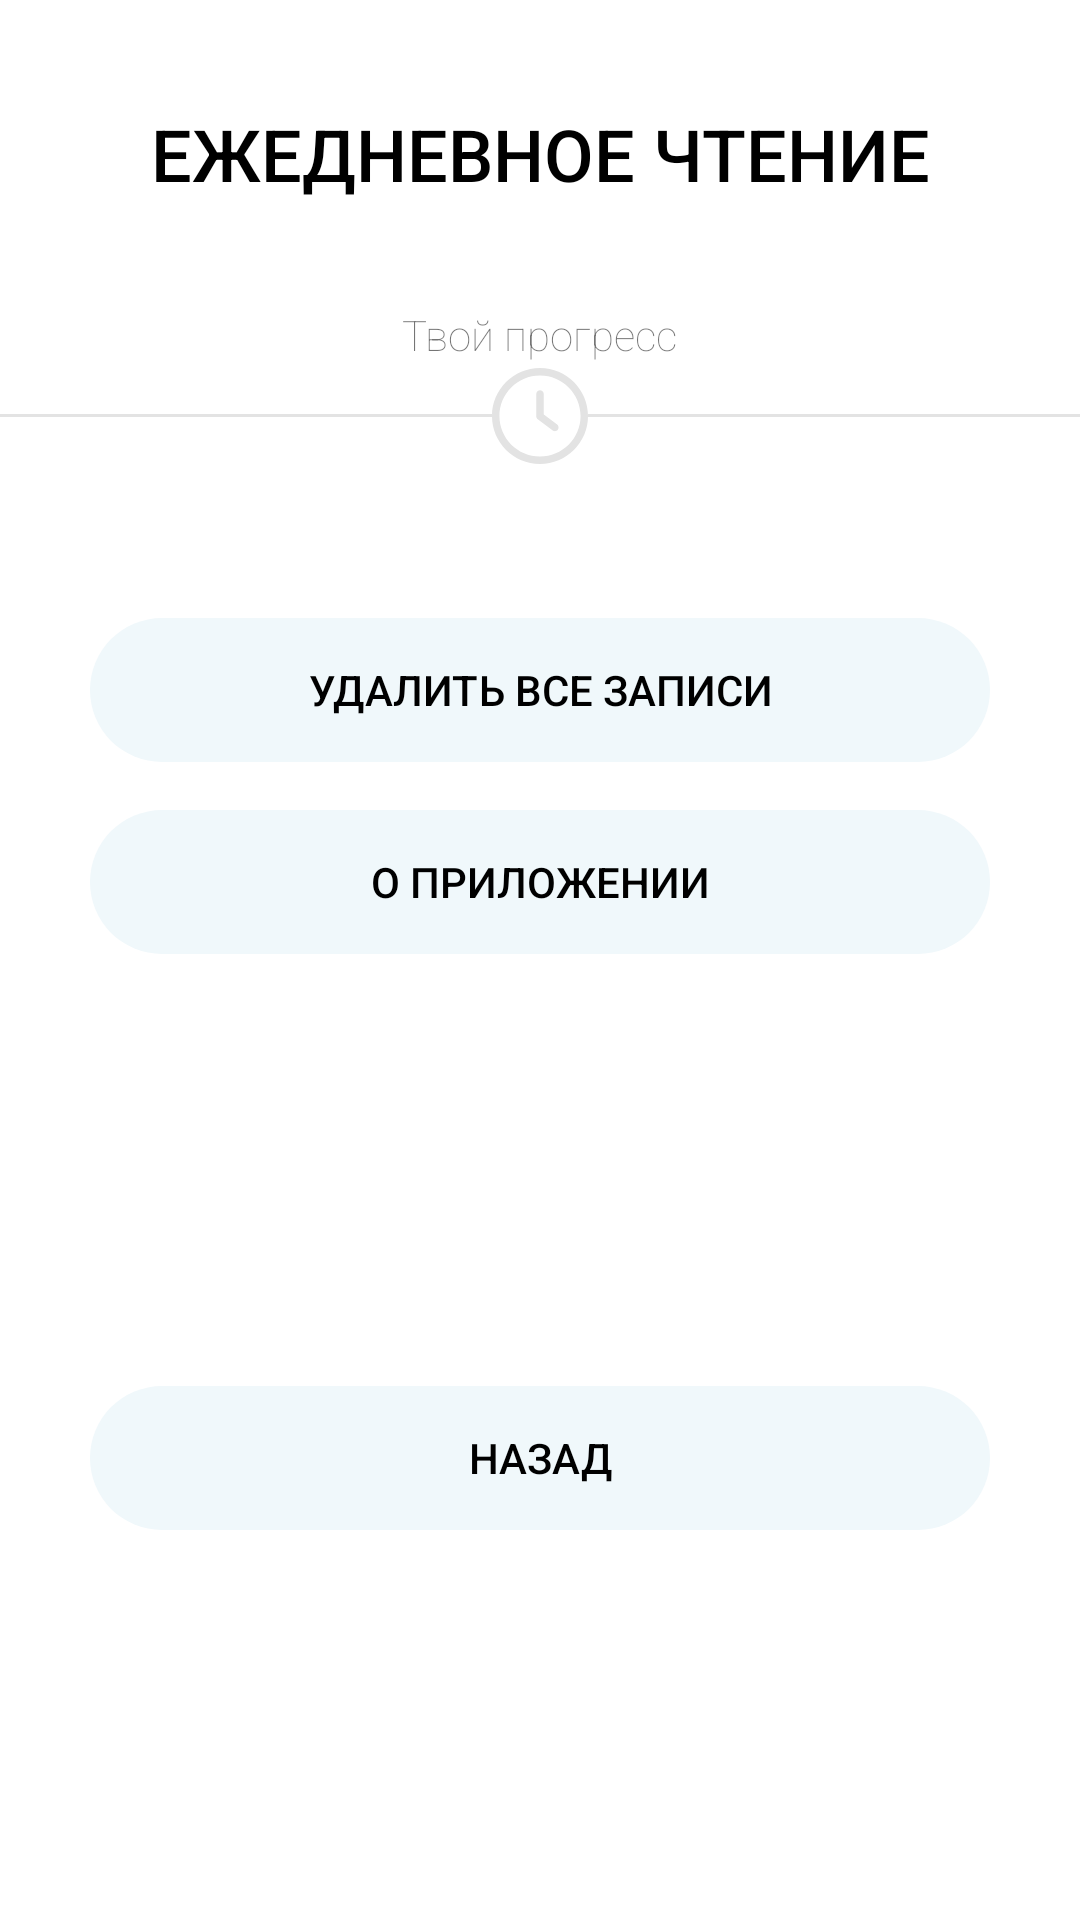

Named icons in this screenshot (1080px×1920px) and their bounding boxes, (x1, y1, x2, y2):
clock: (492, 368, 588, 464)
